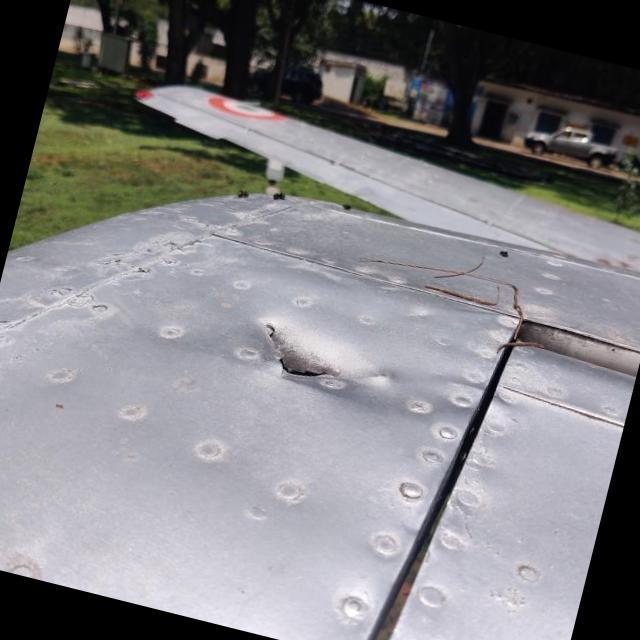Rupture: (218, 290, 406, 426)
